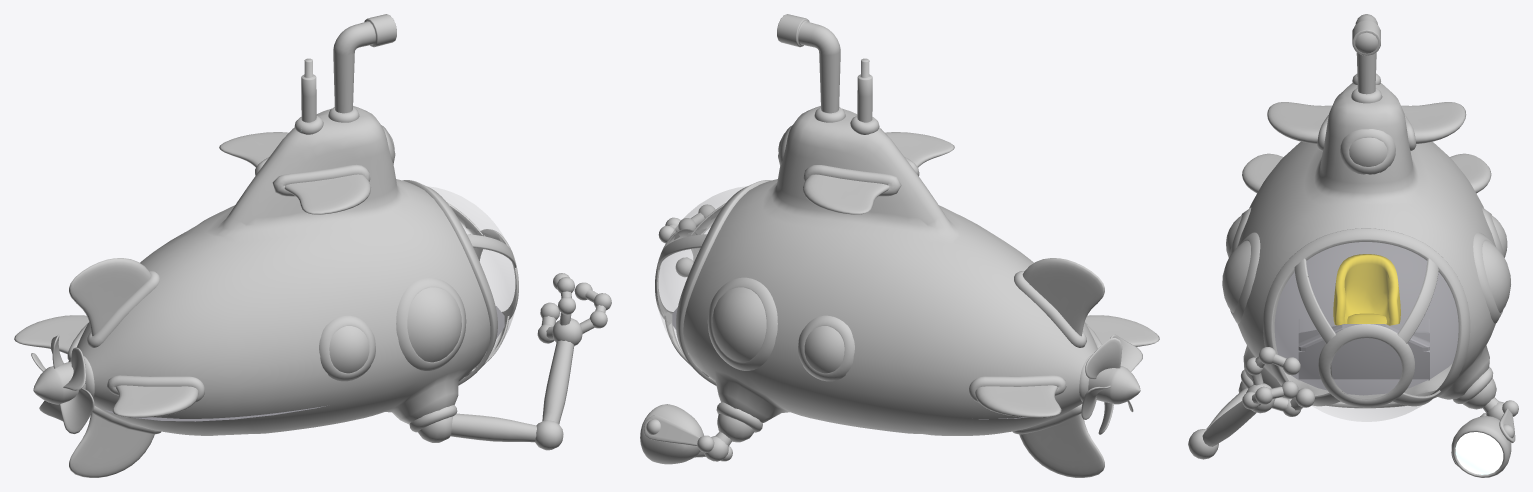
The model's file is 潜水艇mesh.fbx.
The picture shows the model from 3 angles, left to right: view 1: azimuth 30°, elevation 25°; view 2: azimuth 150°, elevation 25°; view 3: azimuth 270°, elevation 25°; orthographic projection.
Parts seen in each view (by area): view 1: geo1_principledshader_0; view 2: geo1_principledshader_0; view 3: geo1_principledshader_0.
Part boxes in pixels (<box>): geo1_principledshader_0: <box>14,14,611,477</box>; geo1_principledshader_0: <box>640,14,1159,477</box>; geo1_principledshader_0: <box>1188,14,1518,477</box>.
Bounding box in the file's own units: 298 × 228 × 163.
